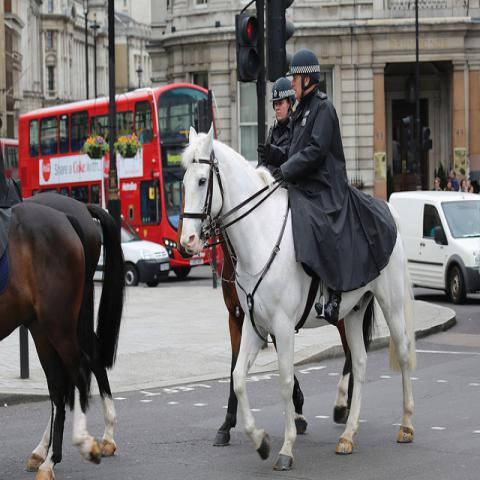bus: (17, 83, 220, 282), (0, 138, 19, 179)
car: (92, 209, 170, 290)
truck: (386, 191, 480, 304)
